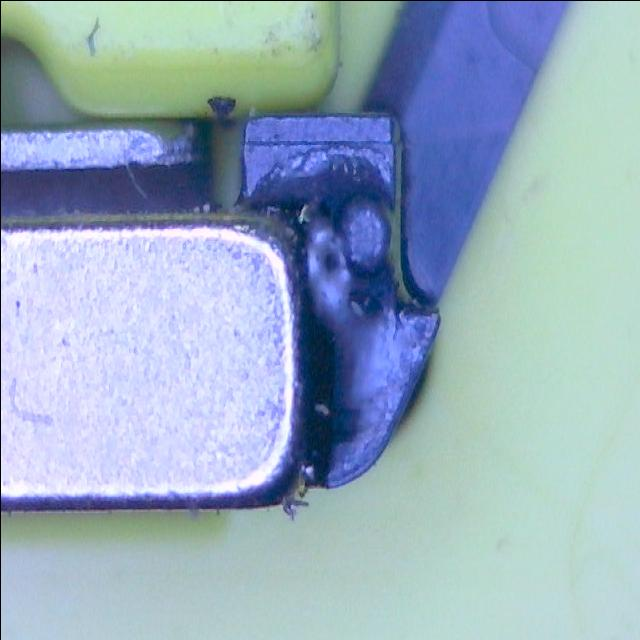over: (306, 219, 386, 441)
